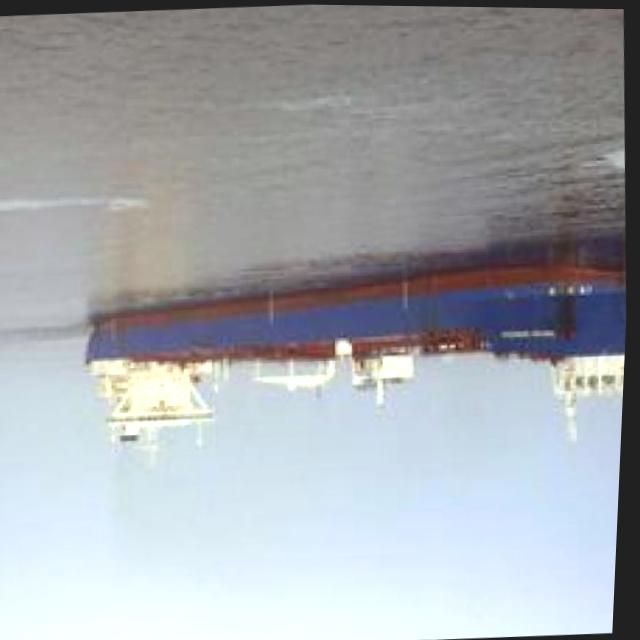ship2: (87, 261, 629, 470)
